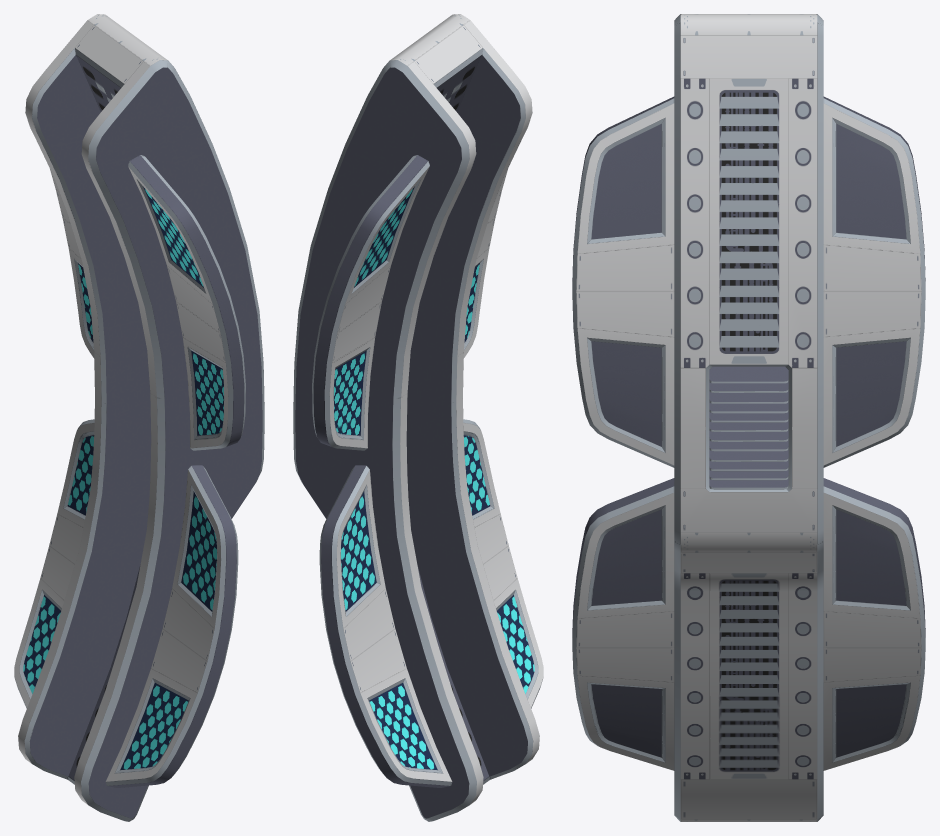
The model's file is Stargate_Part_C.FBX.
3 renders of one model, left to right at view 1: azimuth 30°, elevation 25°; view 2: azimuth 150°, elevation 25°; view 3: azimuth 270°, elevation 25°, orthographic. The views are drawn at different scales.
Parts seen in each view (by area): view 1: Stargate_Part_C; view 2: Stargate_Part_C; view 3: Stargate_Part_C.
Boxes of the visible parts, x1,y1,x2,y2 form: Stargate_Part_C: [14, 14, 264, 821]; Stargate_Part_C: [293, 14, 543, 821]; Stargate_Part_C: [572, 14, 925, 821].
Bounding box in the file's own units: 135 × 512 × 199.
Materials: 3 (3 with a texture image).
